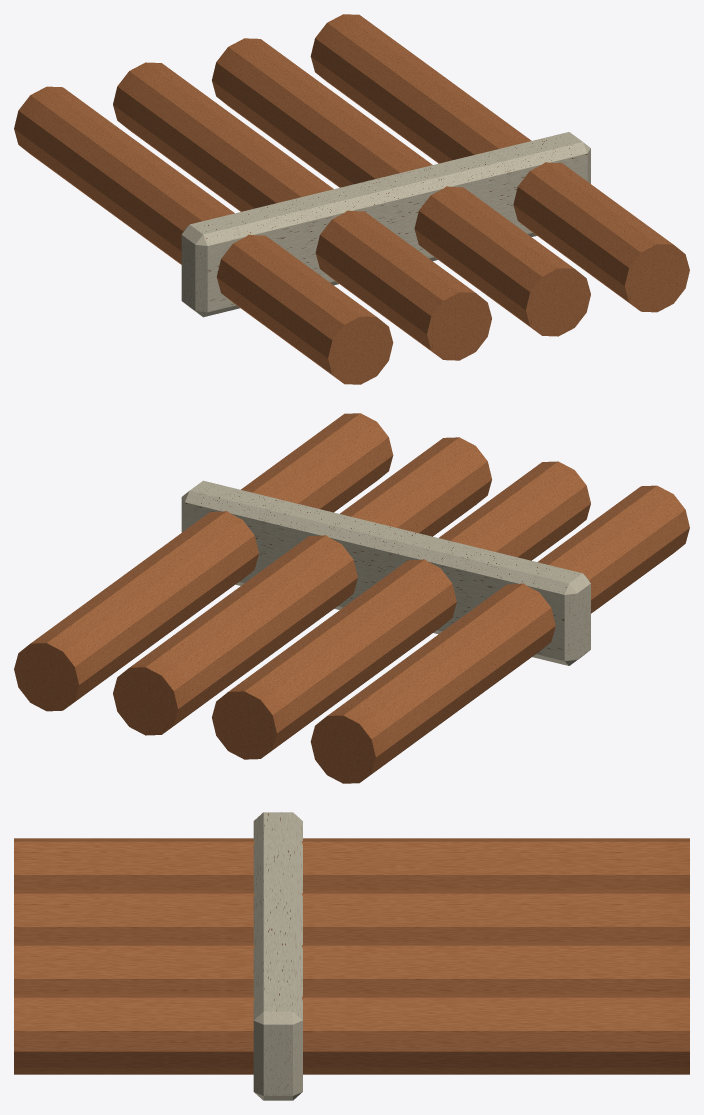
Rendered from CopperBundle.fbx.
3 renders of one model, top to bottom at view 1: azimuth 30°, elevation 25°; view 2: azimuth 150°, elevation 25°; view 3: azimuth 270°, elevation 25°, orthographic. The views are drawn at different scales.
Parts seen in each view (by area): view 1: CopperBundle; view 2: CopperBundle; view 3: CopperBundle.
Part boxes in pixels (box(x1,y1,x2,y2)): CopperBundle: box(14, 14, 689, 384); CopperBundle: box(14, 413, 689, 783); CopperBundle: box(14, 812, 689, 1100).
Size of the model in its own units: 40 by 8 by 55.
Materials: 1 (1 with a texture image).
